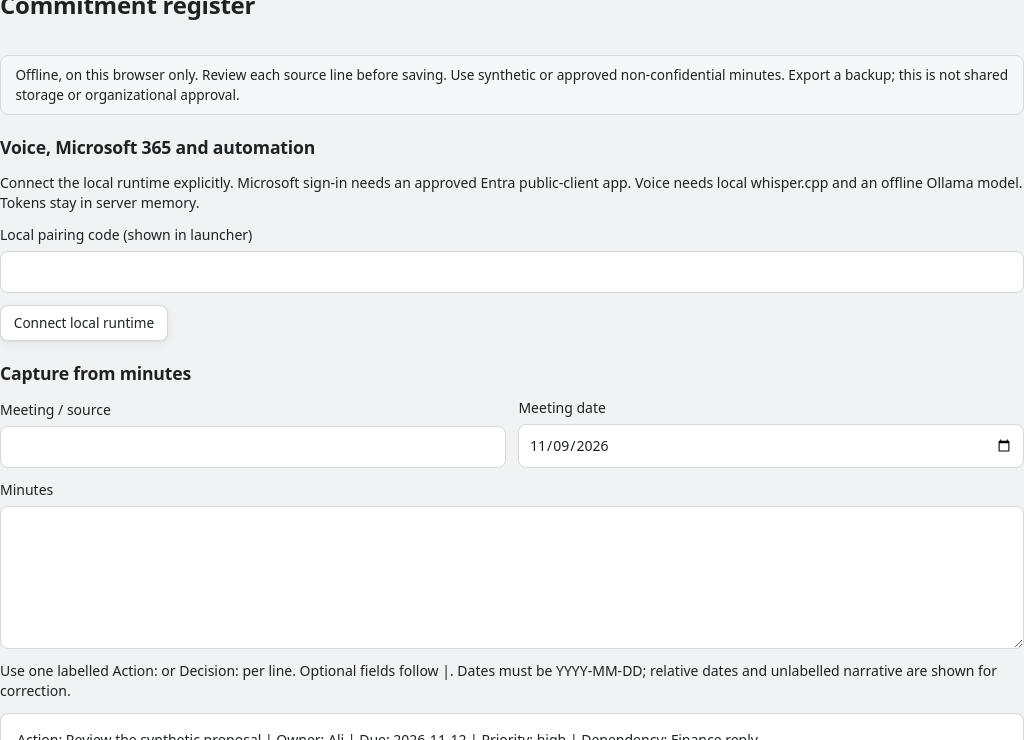
filters the visible register without changing the backup data
Later steps or results of the test are not shown.
In the field labelled "Meeting / source": point(253, 447) [0,426,506,468], type "Synthetic minutes"
In the text box labelled "Minutes": point(512, 577) [0,506,1023,649], type "Action: Review test proposal | Owner: Ali | Due: 2026-11-01"
(page scrolled)
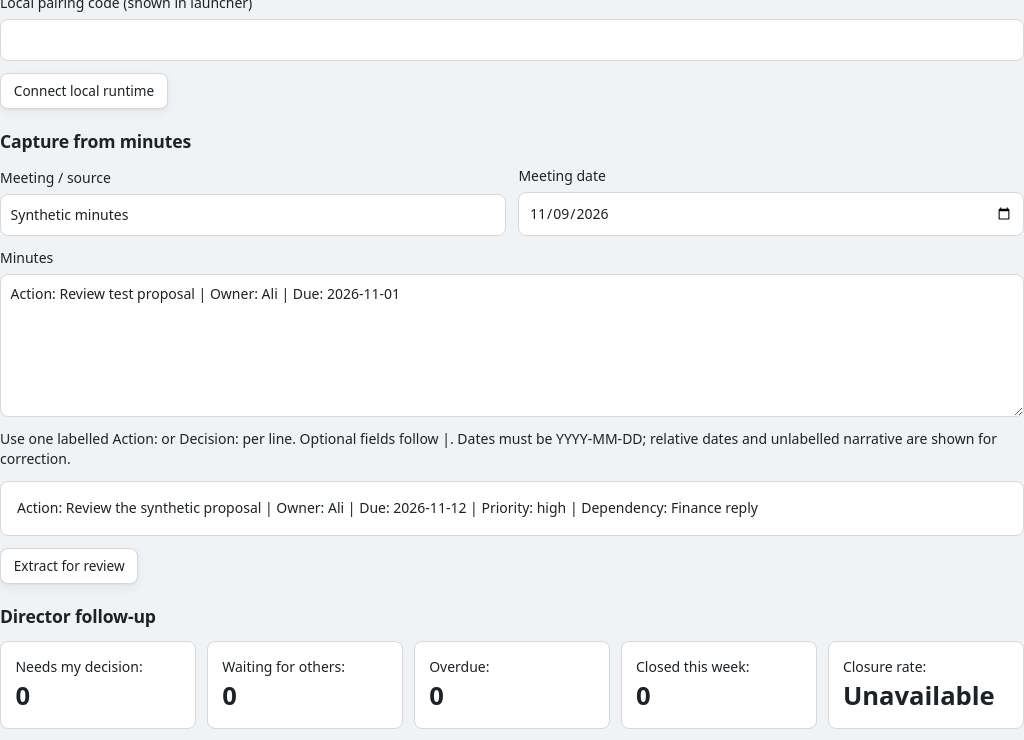
Submit the form named "Extract for review"
(page scrolled)
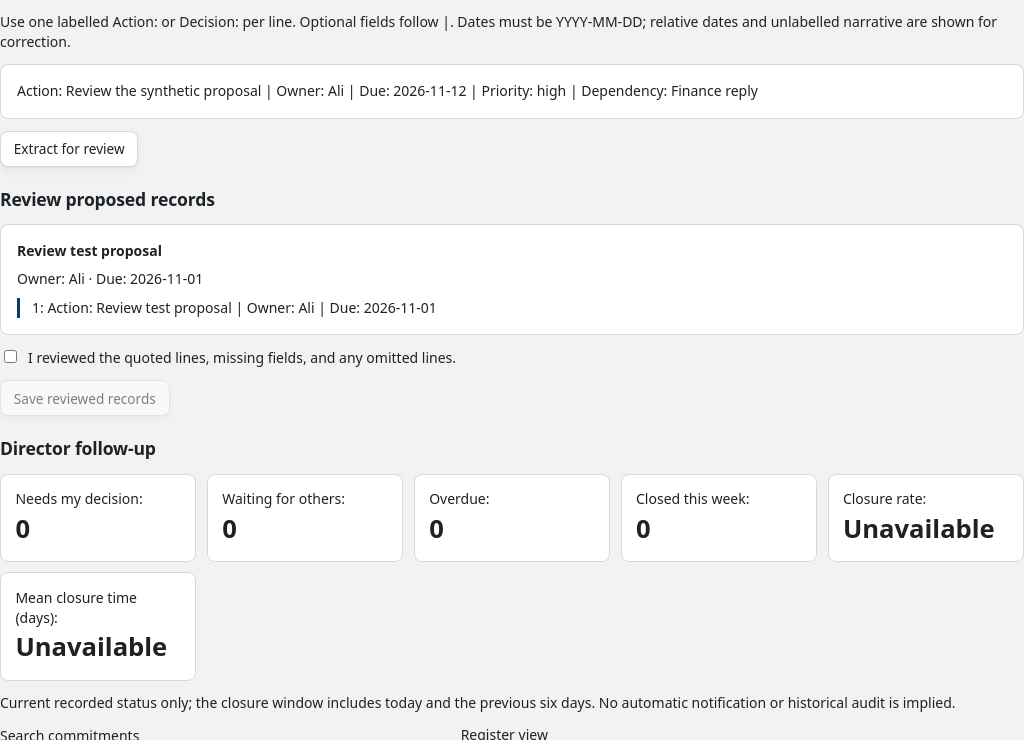
Click the checkbox: point(10, 356) [4,350,17,363]
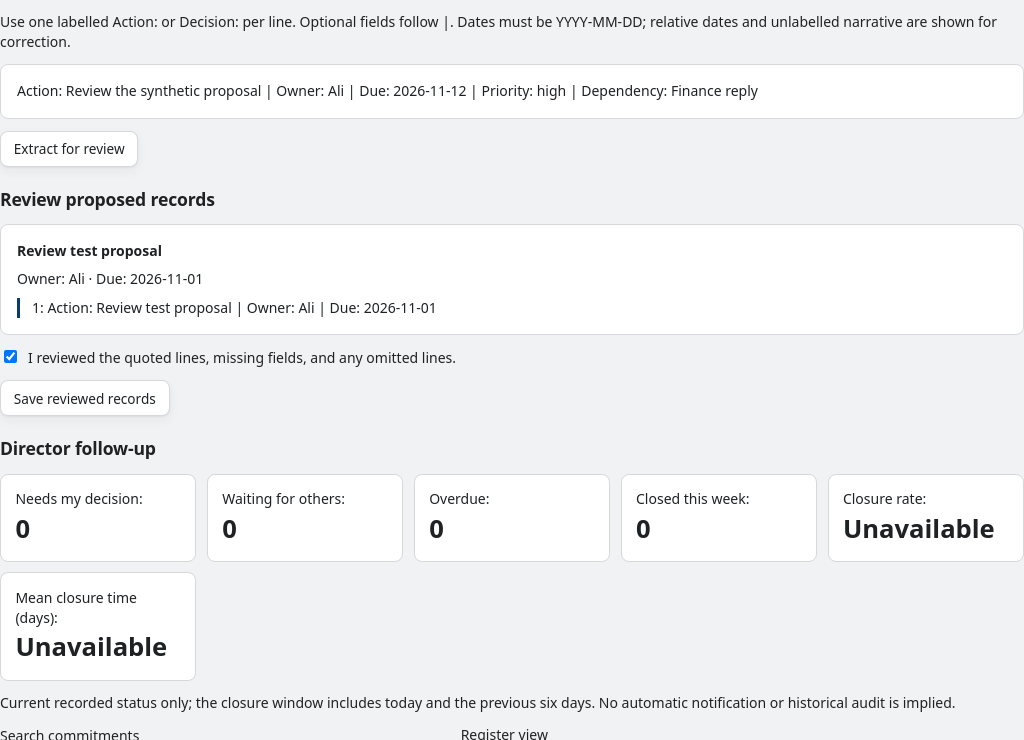
Click the button "Save reviewed records": point(85, 398) [0,380,170,416]
(page scrolled)
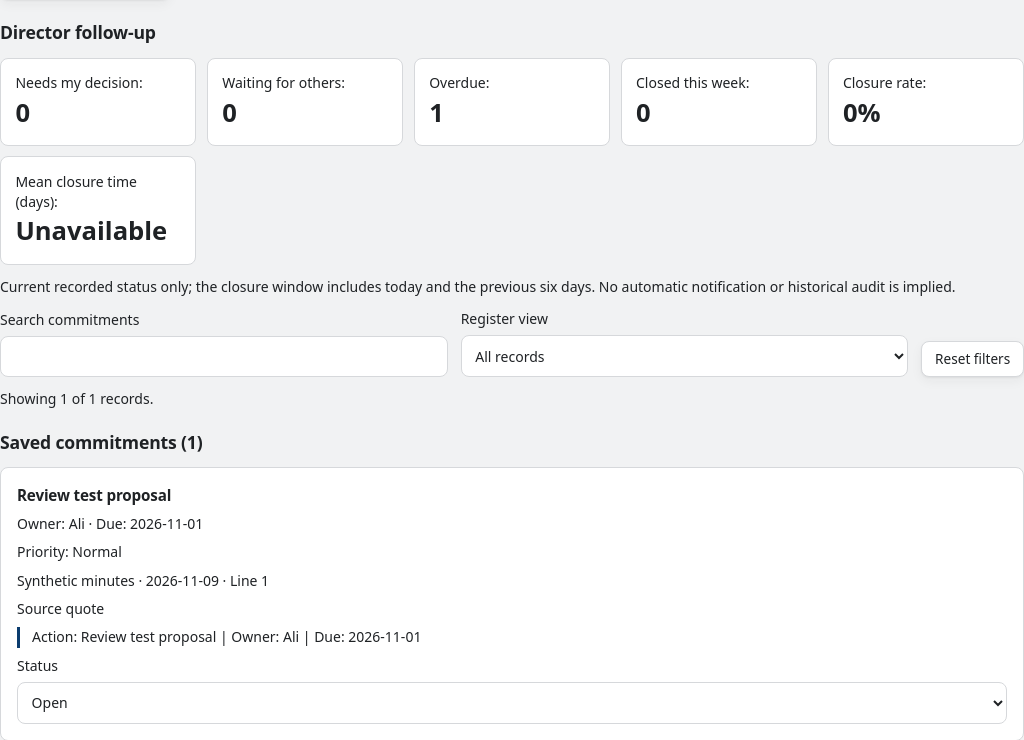
In the search field labelled "Search commitments": point(224, 357) [0,336,448,377], type "No match"
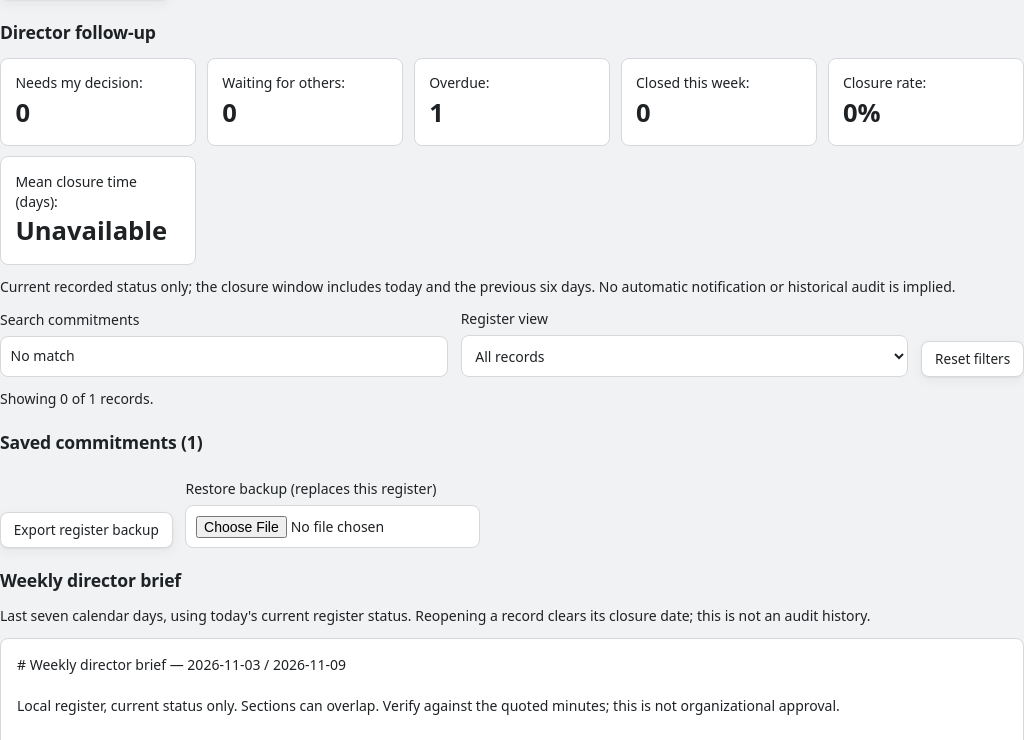
Click the button "Reset filters": point(973, 359) [921,341,1023,377]
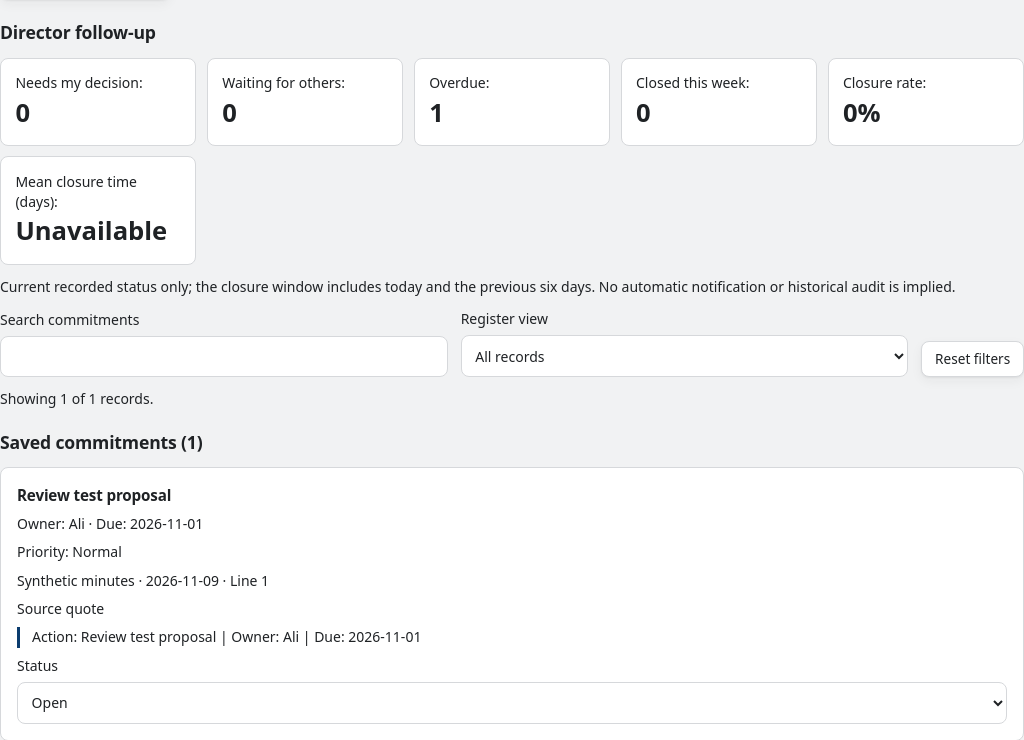
Now the dropdown named "Status: Review test proposal" is shown, box [17,682,1007,724]
